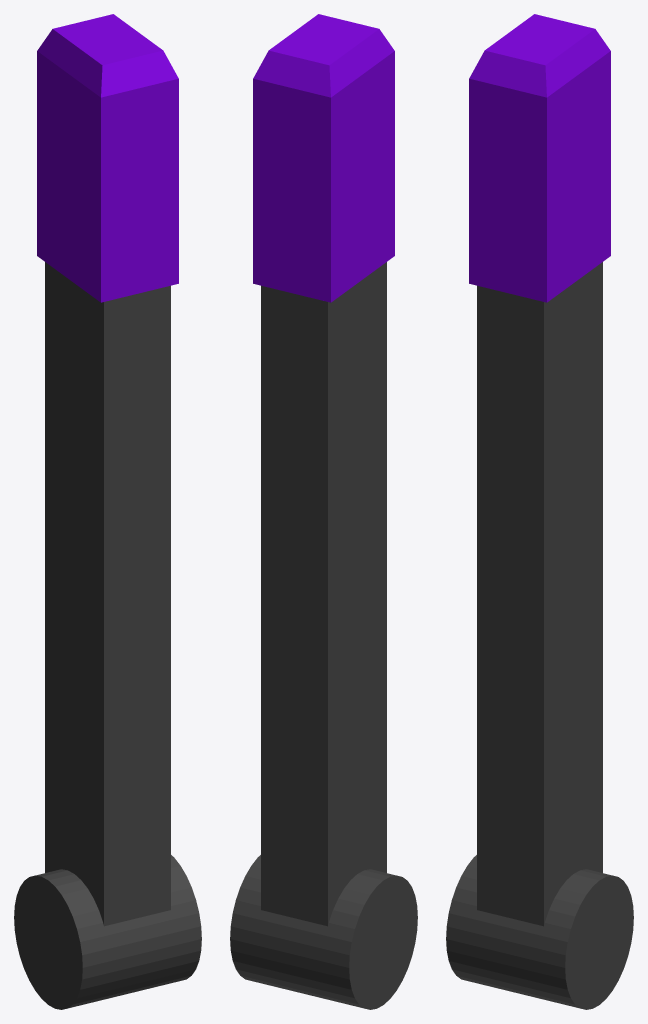
Rendered from PurpleLeverWOB.glb.
The picture shows the model from 3 angles, left to right: view 1: azimuth 30°, elevation 25°; view 2: azimuth 150°, elevation 25°; view 3: azimuth 330°, elevation 25°; orthographic projection.
Parts seen in each view (by area): view 1: Handle, Top; view 2: Handle, Top; view 3: Handle, Top.
Boxes of the visible parts, x1,y1,x2,y2 form: Handle: [14, 262, 201, 1009]; Top: [37, 14, 178, 302]; Handle: [230, 262, 417, 1009]; Top: [253, 14, 394, 302]; Handle: [446, 262, 633, 1009]; Top: [469, 14, 610, 302].
Bounding box in the file's own units: 0.1393 × 1.06 × 0.1393.
